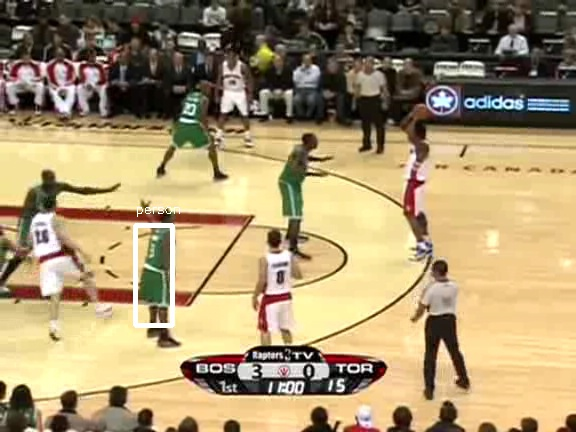person: (142, 227, 176, 308), (141, 227, 175, 308), (143, 227, 177, 308), (142, 226, 176, 307), (142, 228, 176, 309)
target_negative: (204, 269, 406, 406), (154, 70, 322, 139), (400, 302, 445, 376), (281, 79, 288, 281), (17, 371, 69, 396), (363, 392, 444, 398)
